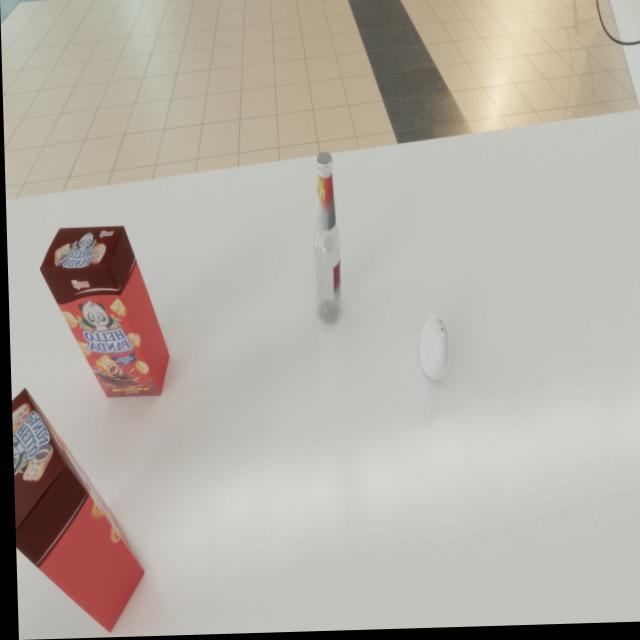Bottle: (309, 154, 342, 326)
HelloPanda: (9, 385, 143, 635), (37, 225, 169, 399)
Salt: (417, 318, 449, 383)
